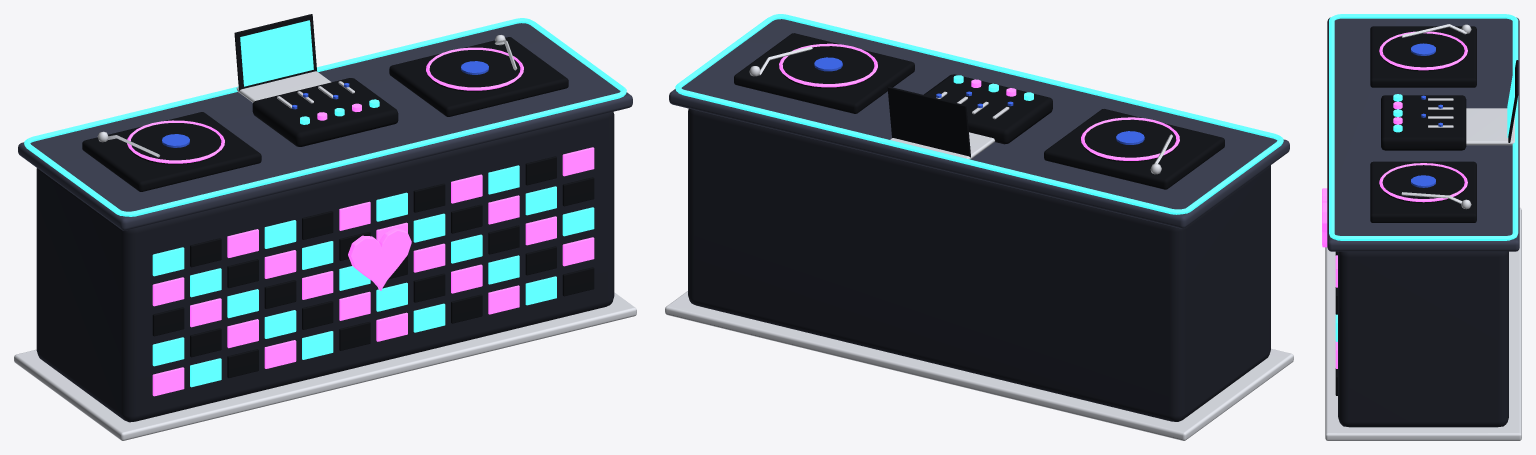
The model's file is dj_booth_neon.glb.
3 renders of one model, left to right at view 1: azimuth 30°, elevation 25°; view 2: azimuth 150°, elevation 25°; view 3: azimuth 270°, elevation 25°, orthographic. The views are drawn at different scales.
Visible parts, largest first — view 1: dj_booth_neon; view 2: dj_booth_neon; view 3: dj_booth_neon.
Boxes of the visible parts, x1=… form: dj_booth_neon: x1=14, y1=14, x2=636, y2=440; dj_booth_neon: x1=665, y1=14, x2=1293, y2=440; dj_booth_neon: x1=1322, y1=14, x2=1521, y2=440.
Size of the model in its own units: 2.52 by 1.3 by 0.935.
